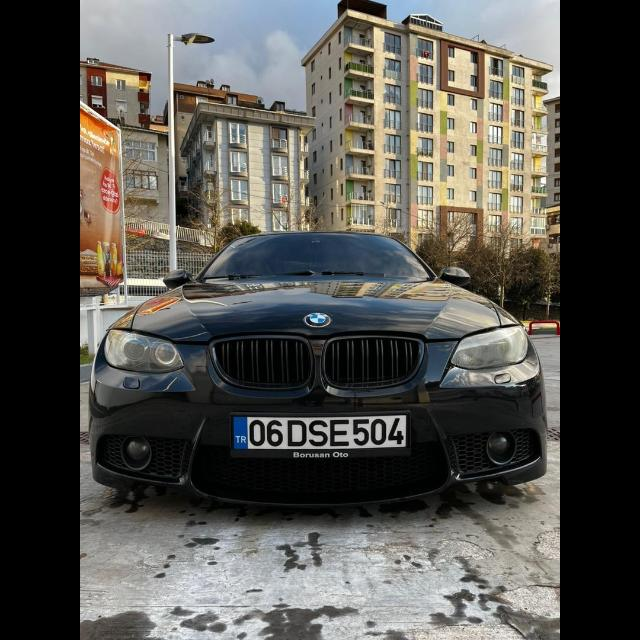Plaka: (234, 416, 406, 448)
